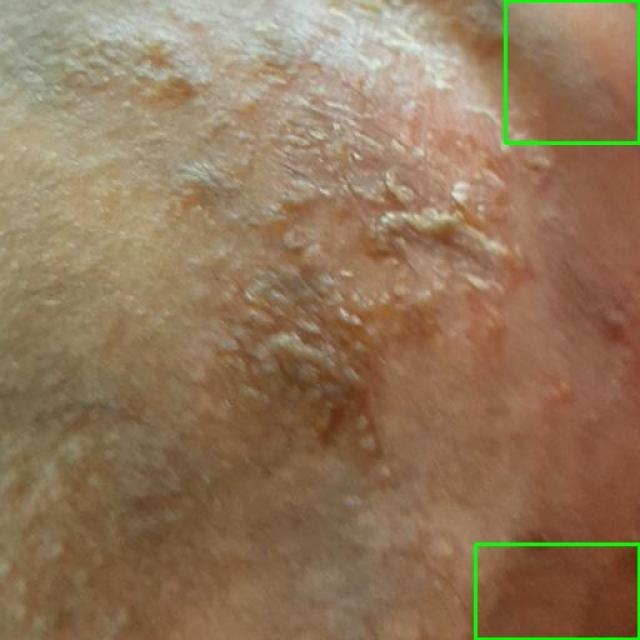Seborrheic Dermatitis: (505, 0, 639, 144), (475, 544, 639, 639)
